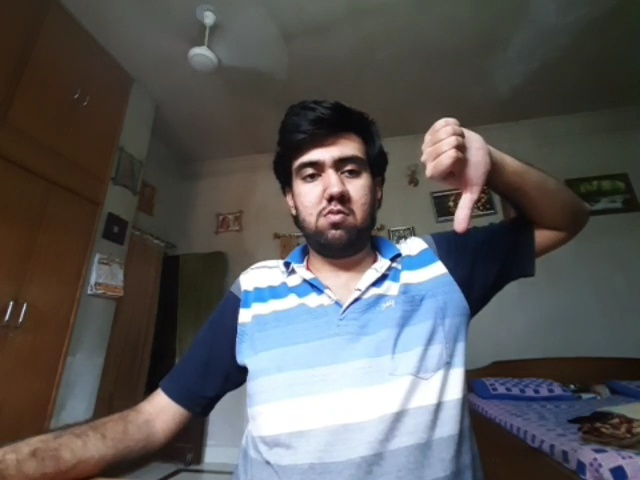NotOk: (423, 116, 491, 234)
